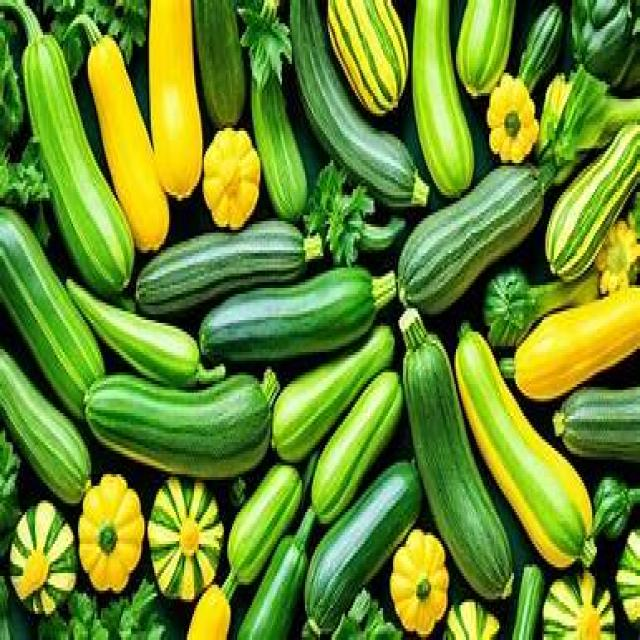Zucchini: (83, 368, 277, 472)
